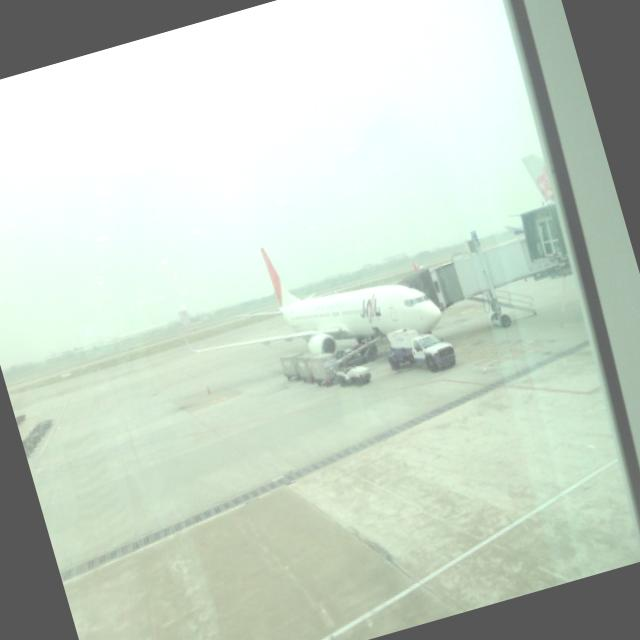Vehicle: (381, 316, 458, 382)
